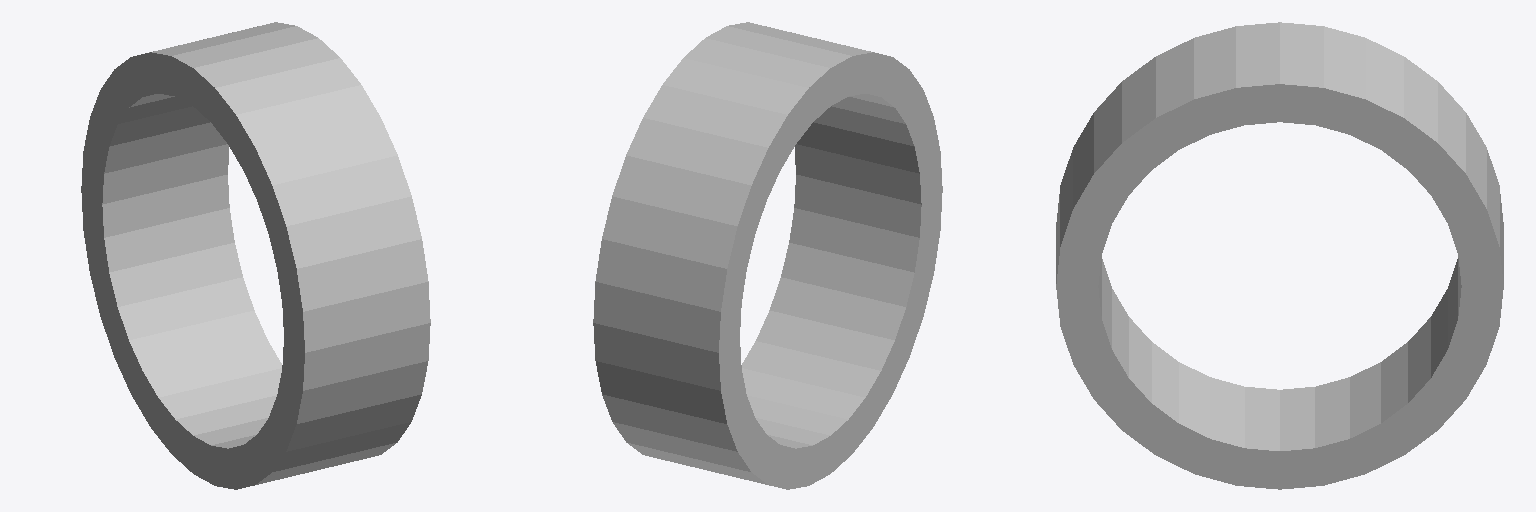
The model's file is circle holo.obj.
3 renders of one model, left to right at view 1: azimuth 30°, elevation 25°; view 2: azimuth 150°, elevation 25°; view 3: azimuth 270°, elevation 25°, orthographic.
Parts seen in each view (by area): view 1: Cylinder; view 2: Cylinder; view 3: Cylinder.
Boxes of the visible parts, box(x1,y1,x2,y2) form: Cylinder: box(81, 22, 430, 489); Cylinder: box(593, 22, 942, 489); Cylinder: box(1056, 22, 1503, 489).
Bounding box in the file's own units: 0.6484 × 2 × 2.